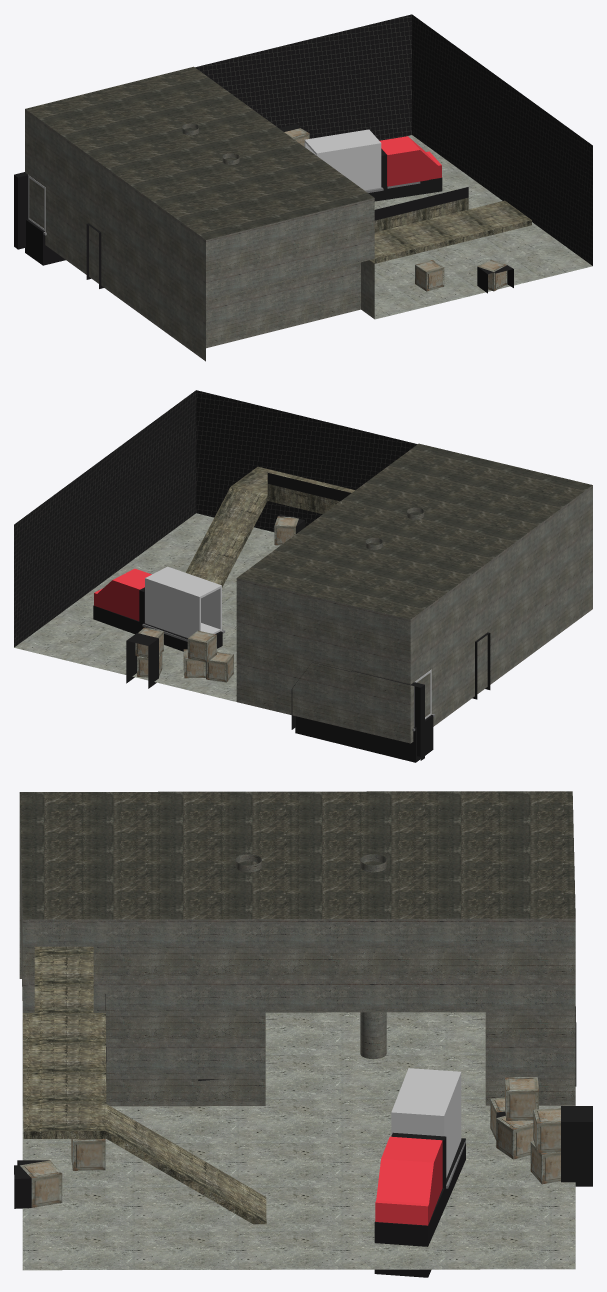
File: map.obj
3 renders of one model, top to bottom at view 1: azimuth 30°, elevation 25°; view 2: azimuth 150°, elevation 25°; view 3: azimuth 270°, elevation 25°, orthographic. The views are drawn at different scales.
Visible parts, largest first — view 1: Plane.001, Cube.001; view 2: Plane.001, Cube.001; view 3: Plane.001, Cube.001, Plane.
Part boxes in pixels (<box>): Plane.001: <box>14,14,592,361</box>; Cube.001: <box>28,129,441,235</box>; Plane.001: <box>14,390,592,762</box>; Cube.001: <box>94,566,434,731</box>; Plane.001: <box>14,791,592,1277</box>; Cube.001: <box>375,1068,465,1225</box>; Plane: <box>235,854,386,1059</box>.
Bounding box in the file's own units: 24.84 × 8.68 × 20.26.
Materials: 7 (7 with a texture image).
